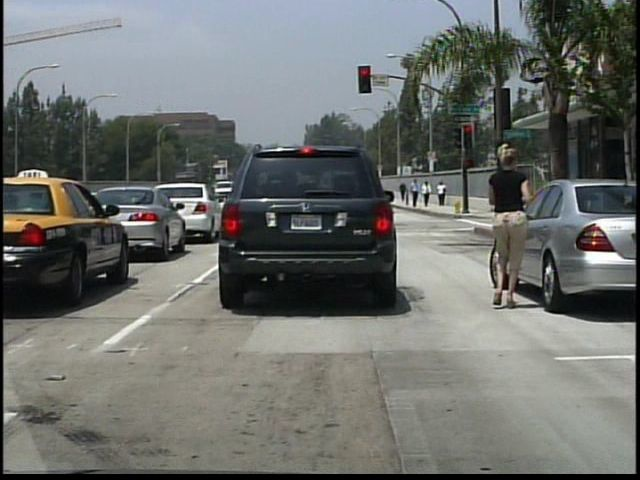person: (484, 137, 537, 313), (437, 179, 449, 207), (411, 177, 422, 207), (423, 179, 433, 207), (400, 180, 409, 202)
